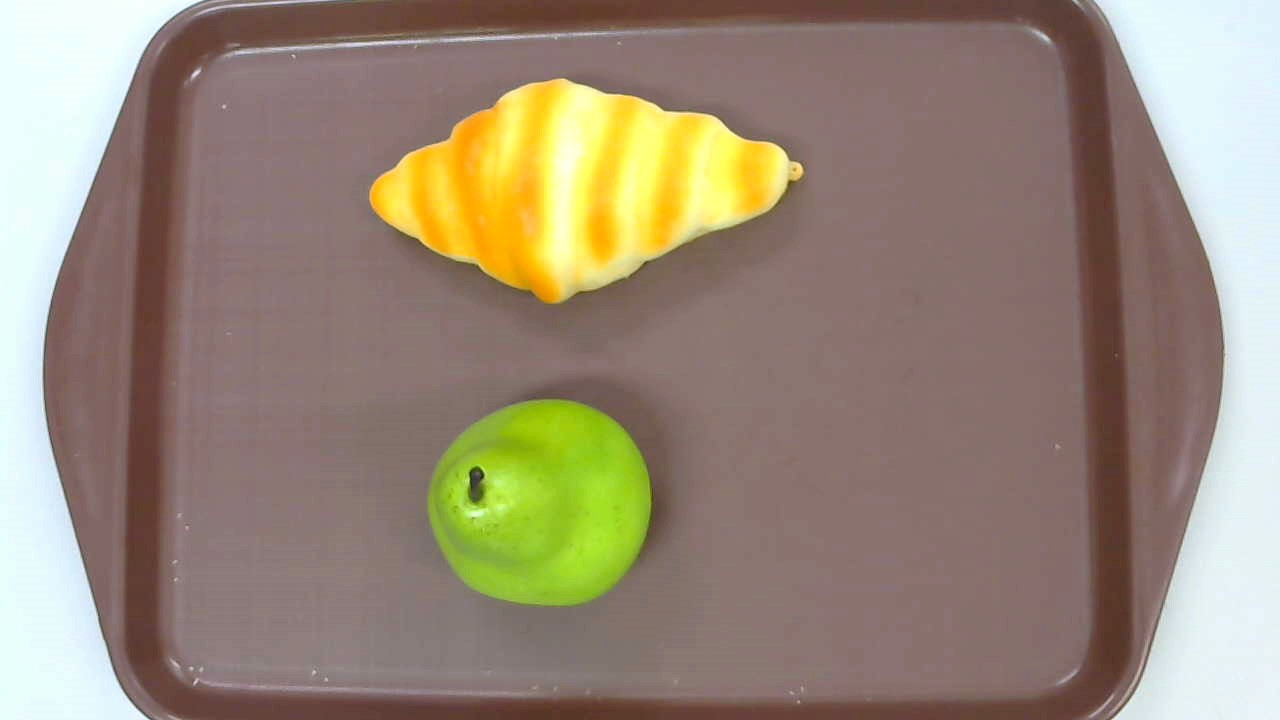croissant: (368, 78, 804, 305)
green pear: (427, 398, 653, 607)
